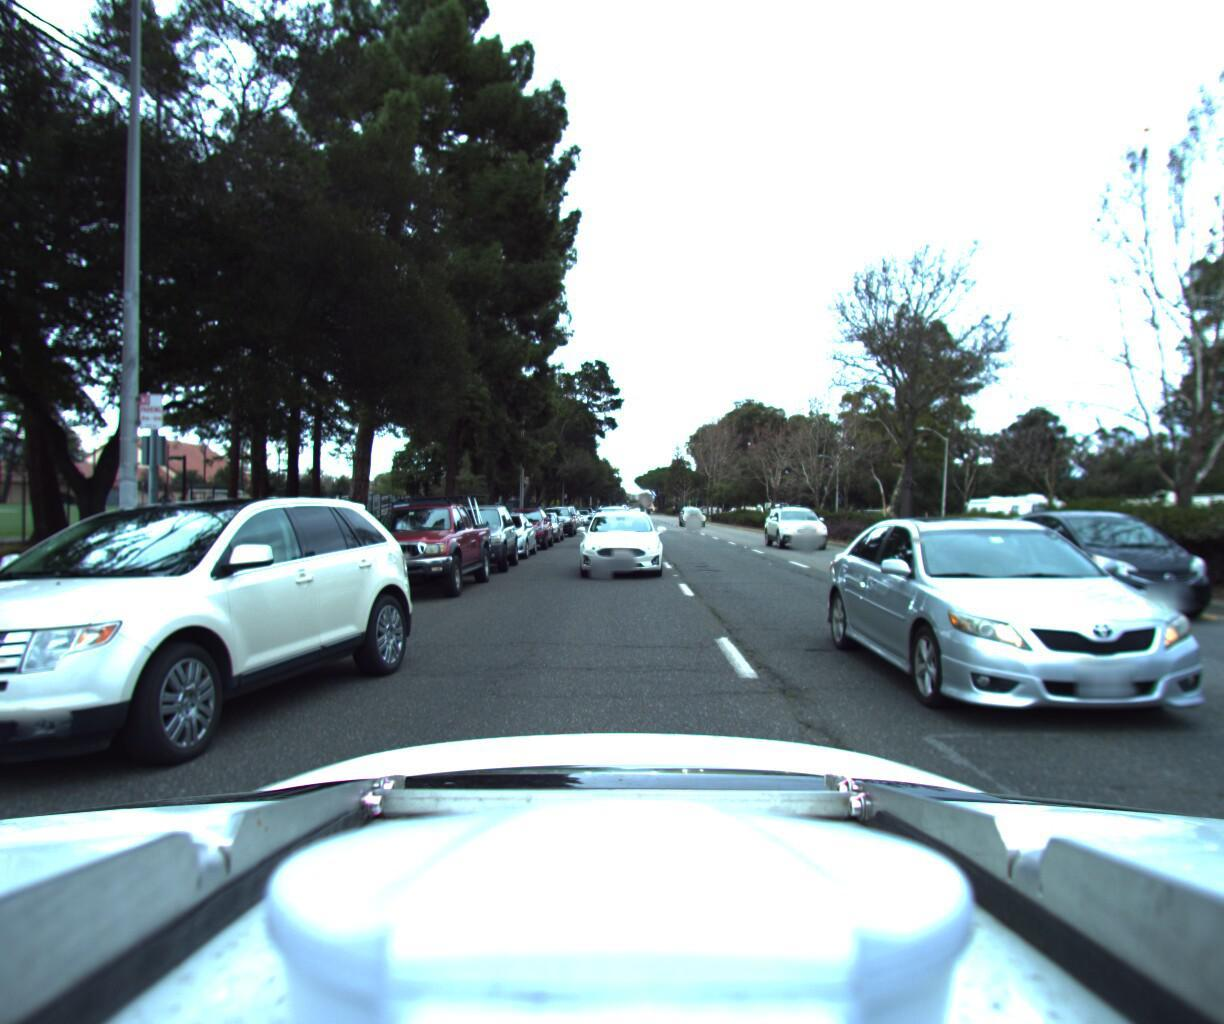car: (0, 484, 433, 832), (834, 513, 1224, 821), (1011, 506, 1224, 643), (332, 484, 498, 601), (423, 495, 519, 573), (577, 504, 664, 577), (767, 494, 842, 547), (465, 506, 537, 560), (493, 498, 551, 548), (515, 504, 565, 539), (537, 498, 575, 533), (678, 501, 706, 523)
other_vehicle: (1099, 478, 1224, 560), (953, 484, 1072, 544)
